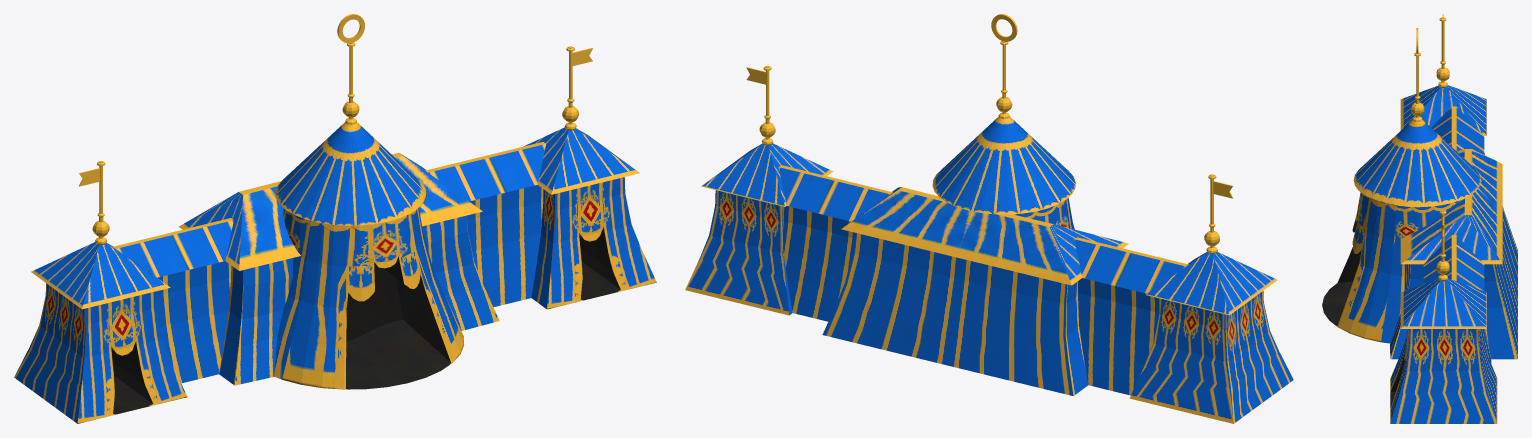
The model's file is tent.glb.
3 renders of one model, left to right at view 1: azimuth 30°, elevation 25°; view 2: azimuth 150°, elevation 25°; view 3: azimuth 270°, elevation 25°, orthographic. The views are drawn at different scales.
Parts seen in each view (by area): view 1: Sphere.004; view 2: Sphere.004; view 3: Sphere.004.
Part boxes in pixels (x1,y1,x2,y2): Sphere.004: (14,14,656,423); Sphere.004: (685,14,1293,423); Sphere.004: (1322,14,1517,423).
Bounding box in the file's own units: 27.14 × 14.66 × 9.43.
2 materials, 1 textured.
